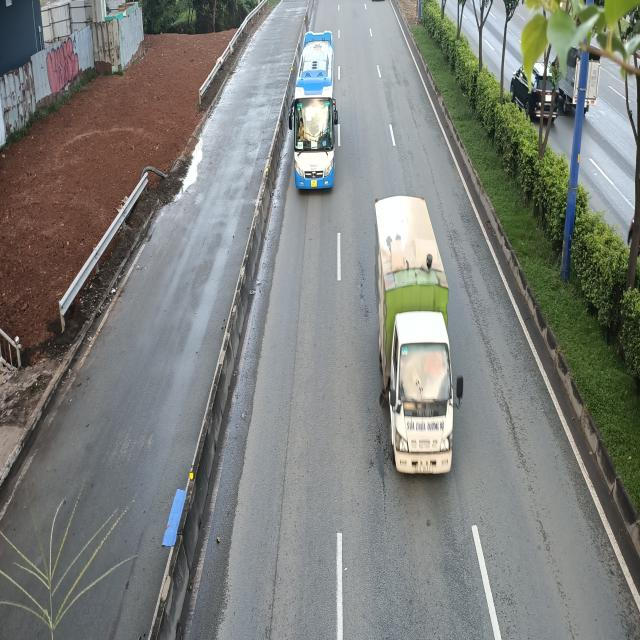coach: (290, 33, 342, 195)
truck: (374, 193, 465, 475)
